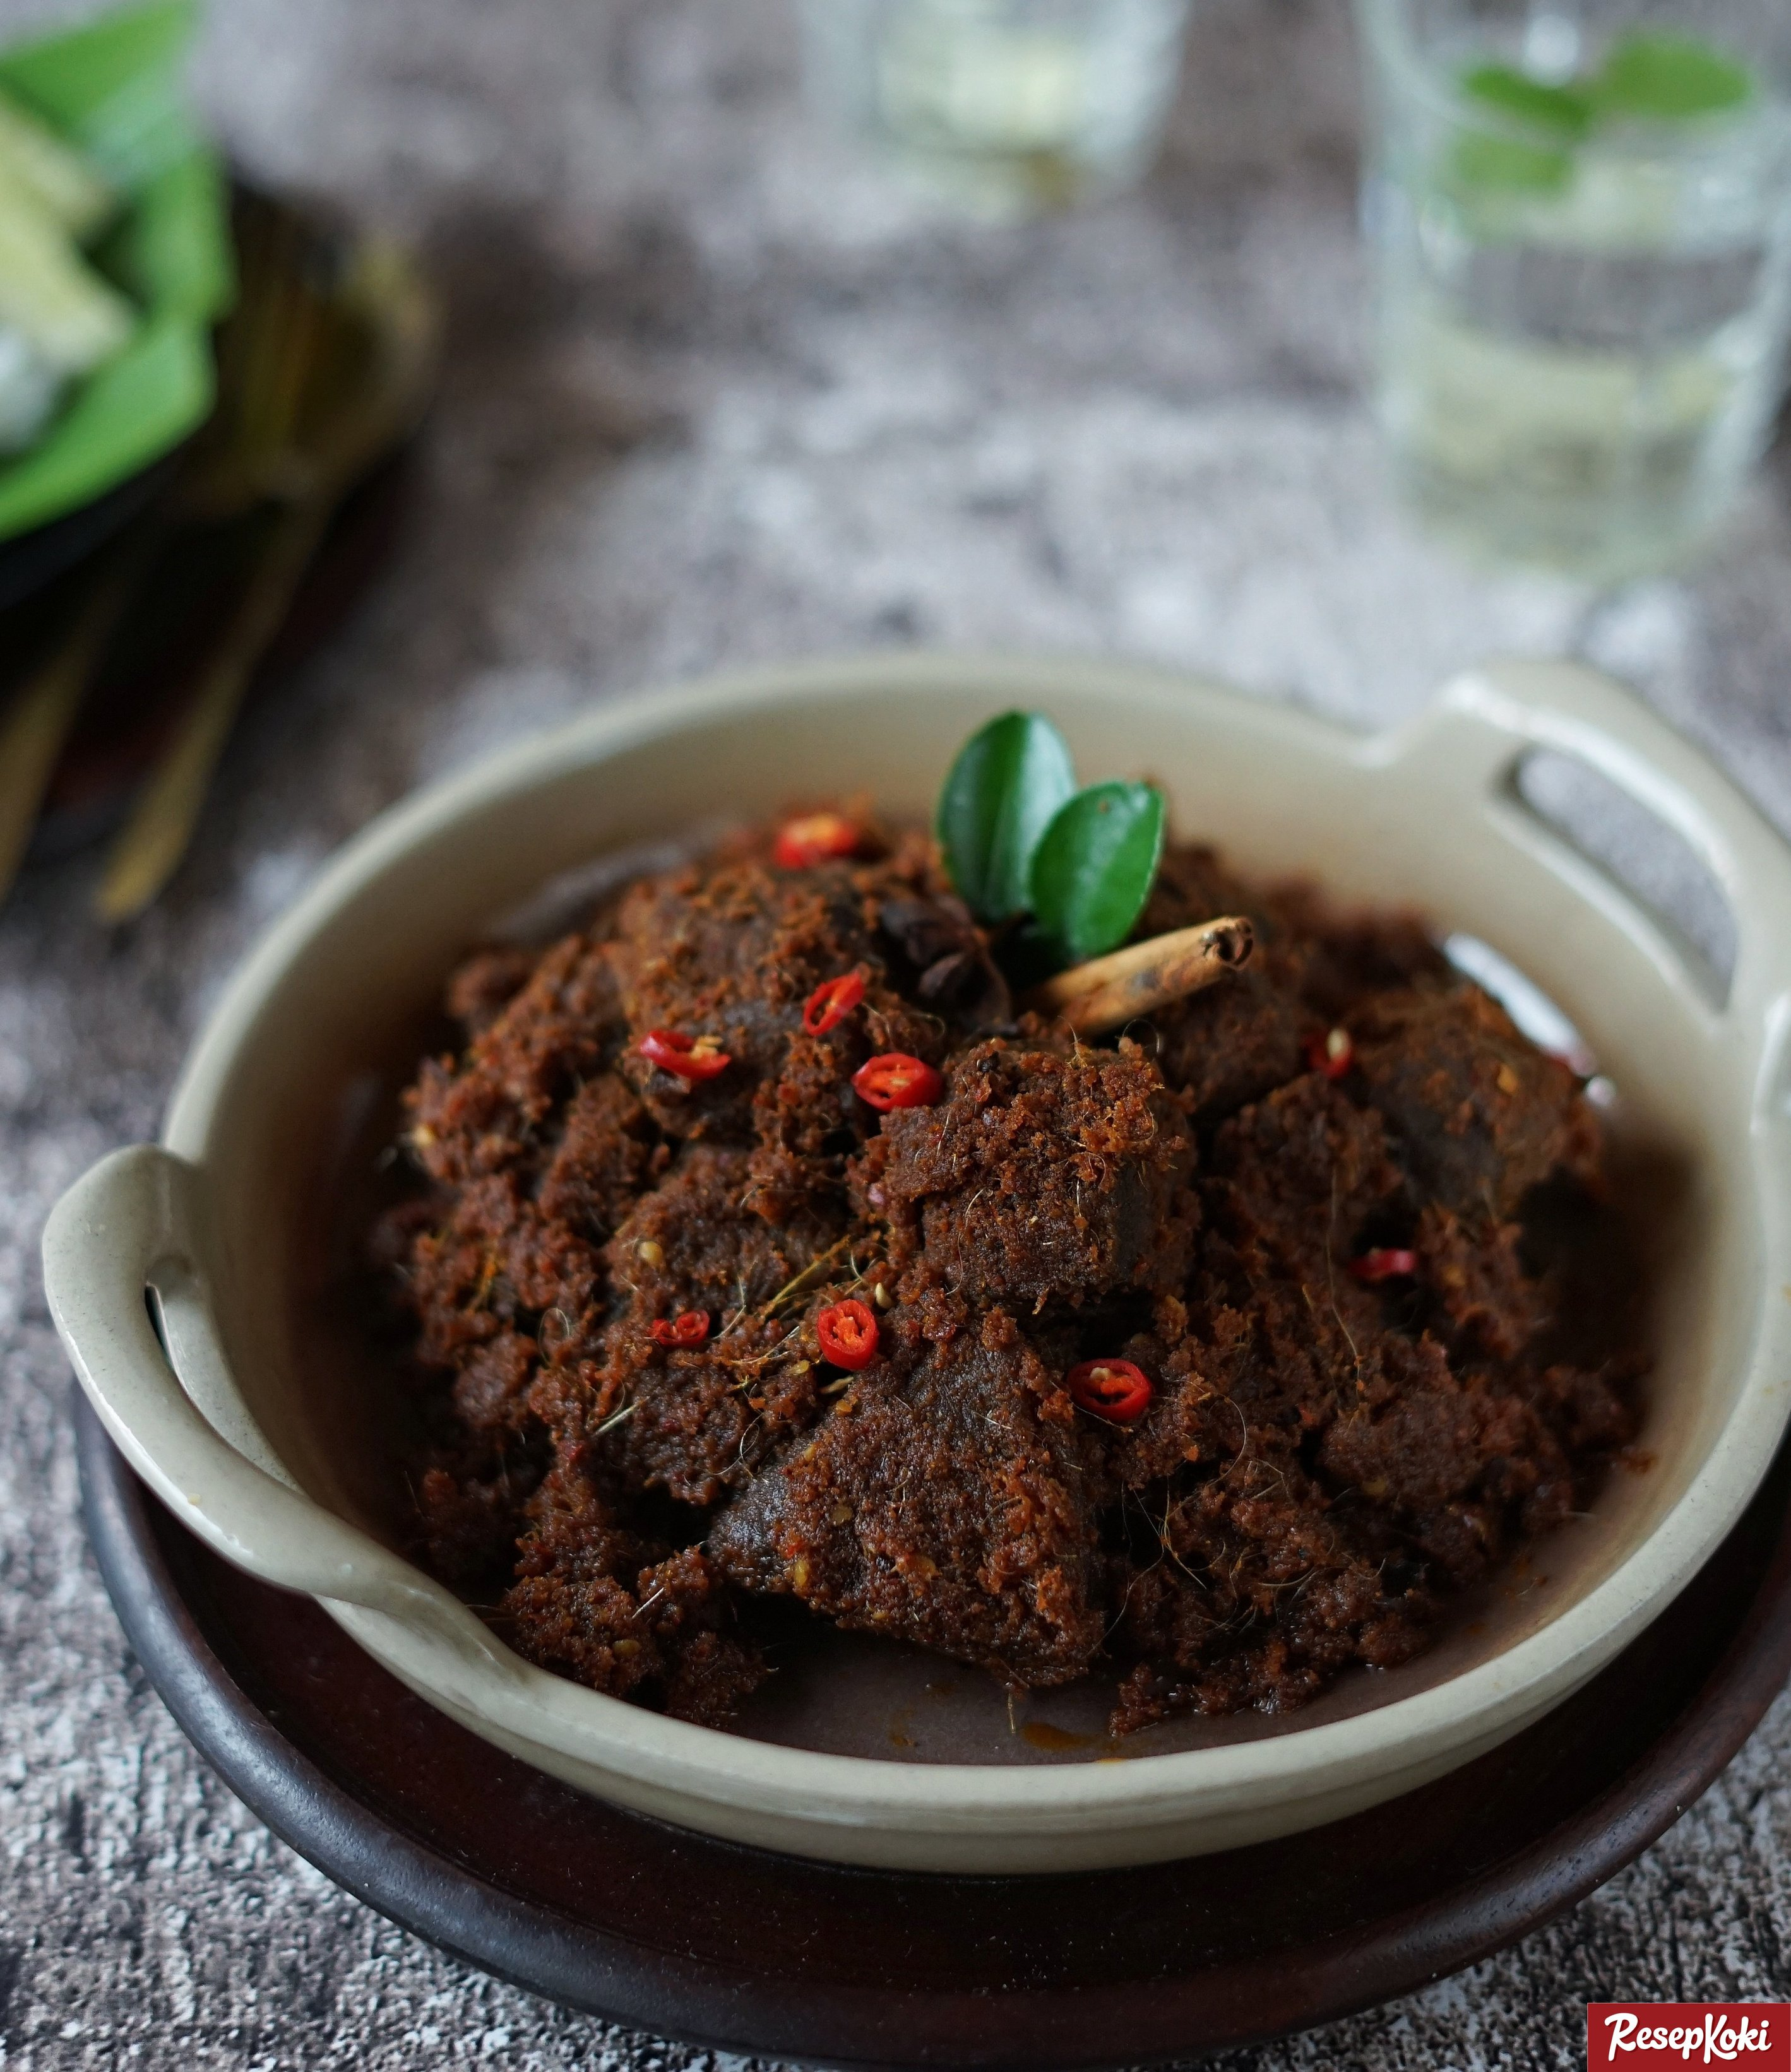rendang: (249, 701, 1710, 1723)
